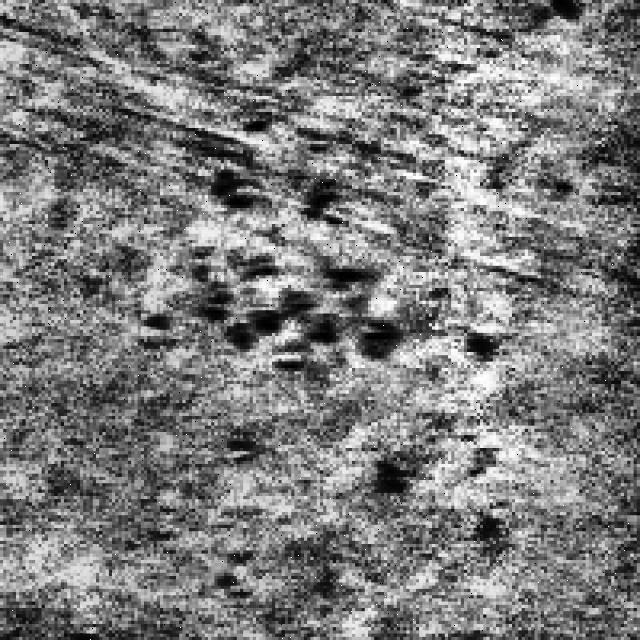Crazing: (192, 112, 416, 378)
